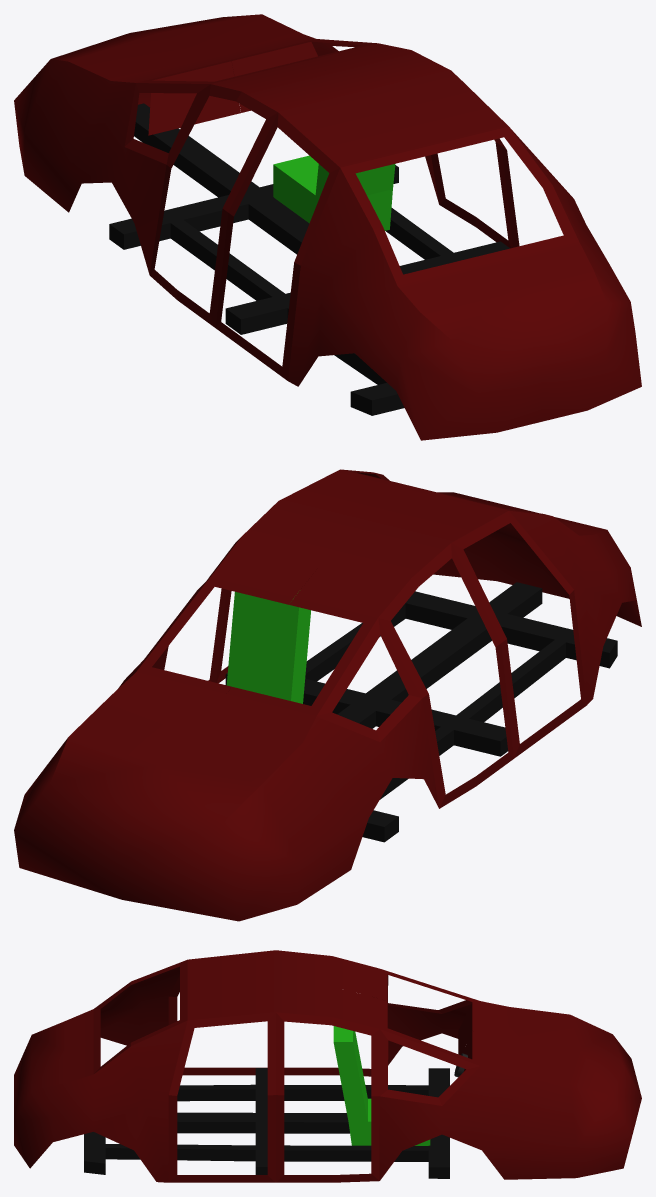
The model's file is Car Without Bonnett Fix 2.fbx.
3 renders of one model, top to bottom at view 1: azimuth 30°, elevation 25°; view 2: azimuth 150°, elevation 25°; view 3: azimuth 270°, elevation 25°, orthographic. The views are drawn at different scales.
Parts seen in each view (by area): view 1: Body, Chassis, Seat; view 2: Body, Chassis, Seat; view 3: Body, Chassis, Seat.
Part boxes in pixels (x1,y1,x2,y2): Body: (14,14,641,440); Chassis: (109,103,509,415); Seat: (273,155,395,230); Body: (14,469,641,921); Chassis: (225,582,617,842); Seat: (226,591,310,703); Body: (14,950,641,1182); Chassis: (84,1068,449,1178); Seat: (333,1026,430,1145).
Bounding box in the file's own units: 1486 × 957 × 3667.
